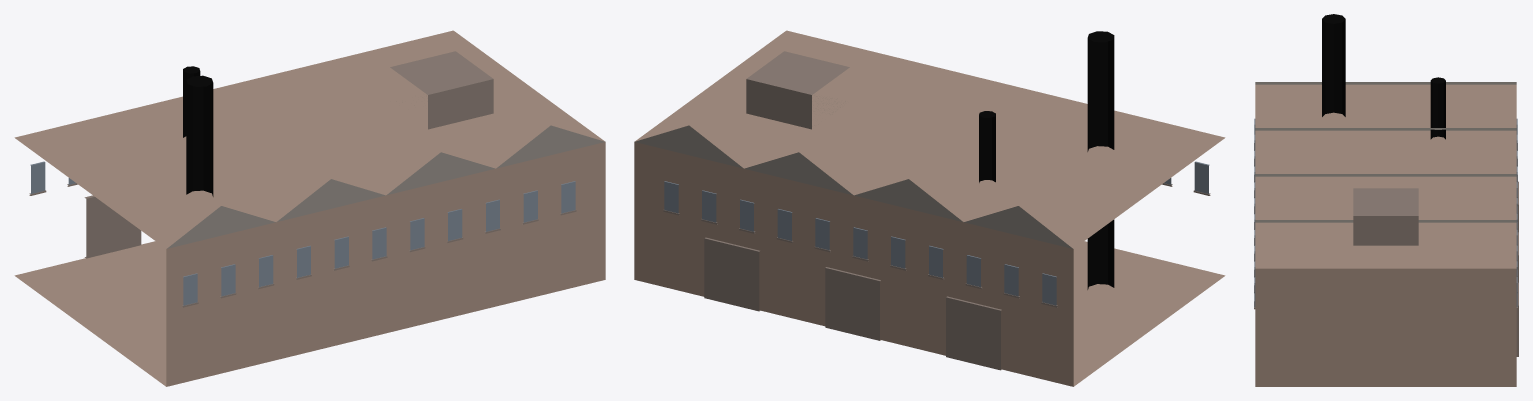
The model's file is factory_plant.glb.
The picture shows the model from 3 angles, left to right: view 1: azimuth 30°, elevation 25°; view 2: azimuth 150°, elevation 25°; view 3: azimuth 270°, elevation 25°; orthographic projection. The views are drawn at different scales.
Parts seen in each view (by area): view 1: factory_plant; view 2: factory_plant; view 3: factory_plant.
Boxes of the visible parts, x1,y1,x2,y2 form: factory_plant: [14, 30, 605, 386]; factory_plant: [634, 30, 1225, 386]; factory_plant: [1254, 14, 1518, 386].
Bounding box in the file's own units: 40 × 22 × 24.32.
